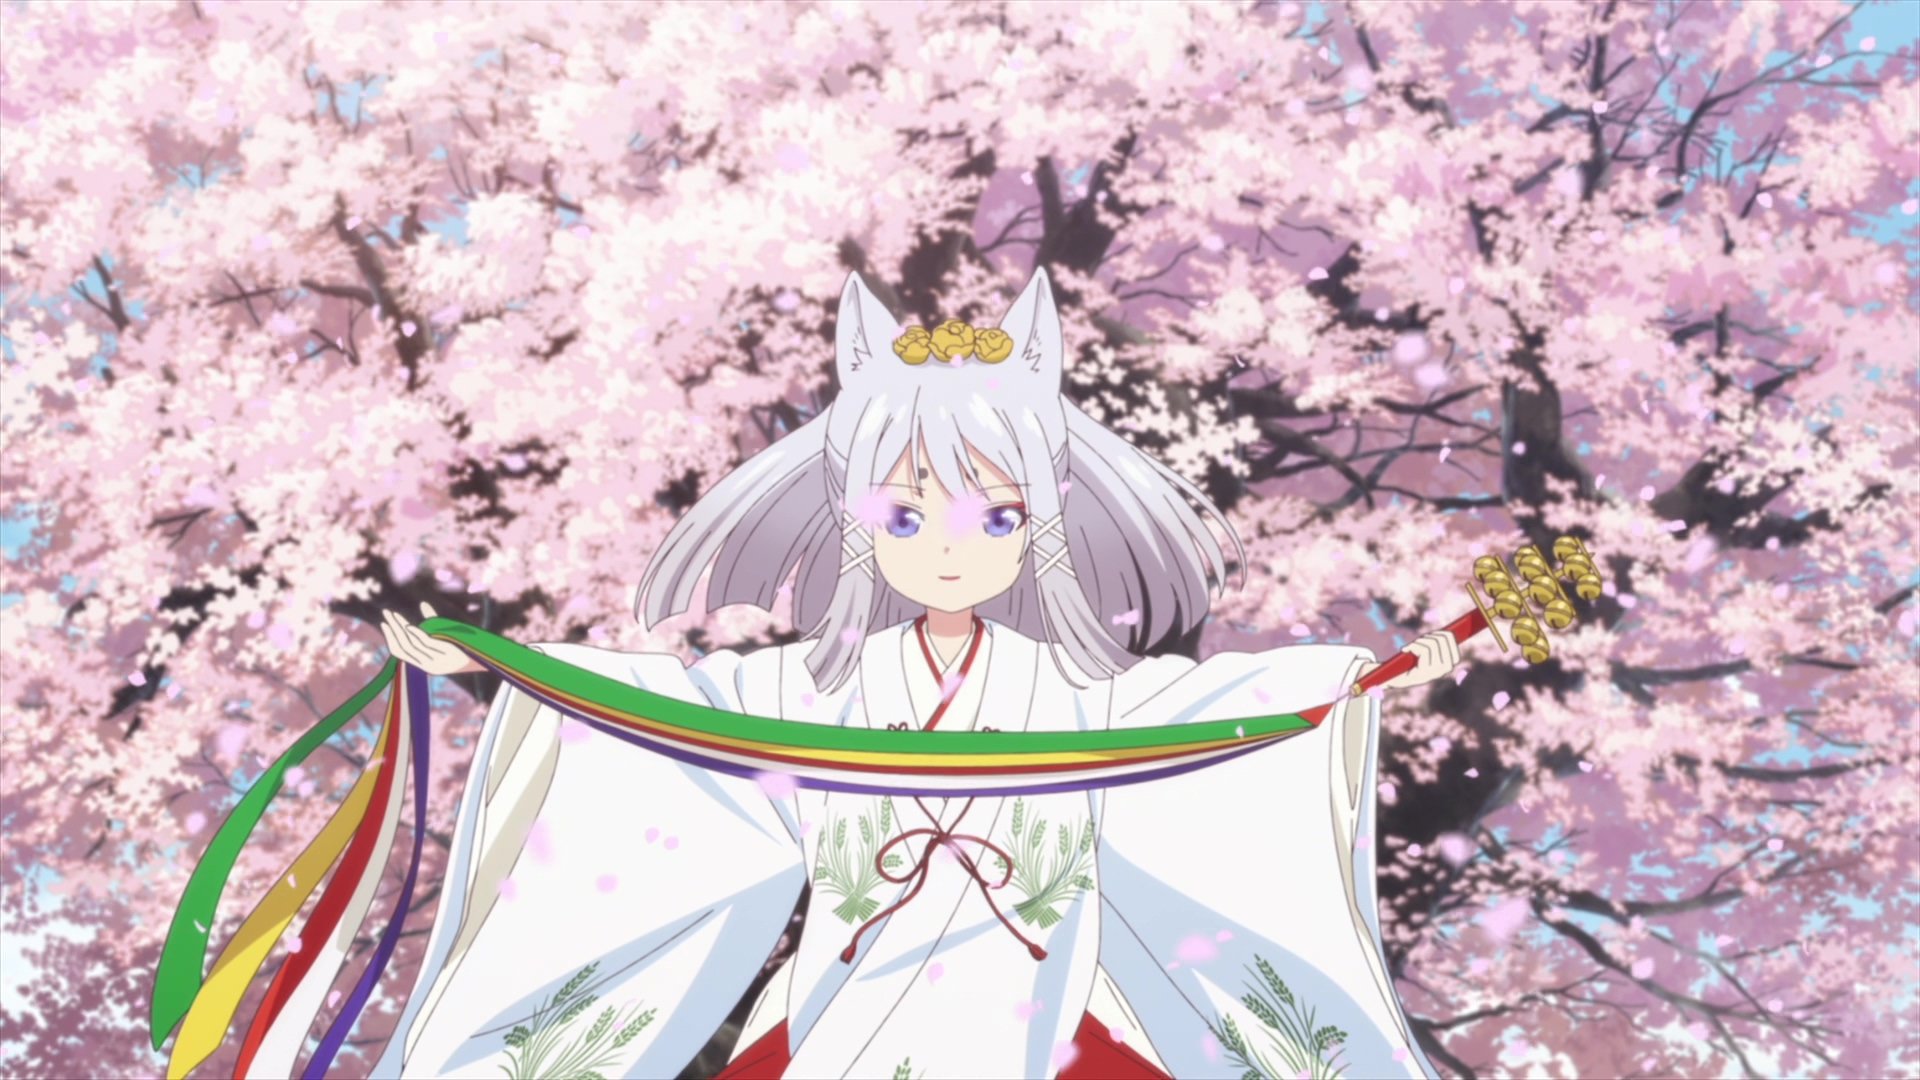柊: (149, 266, 1604, 1080)
